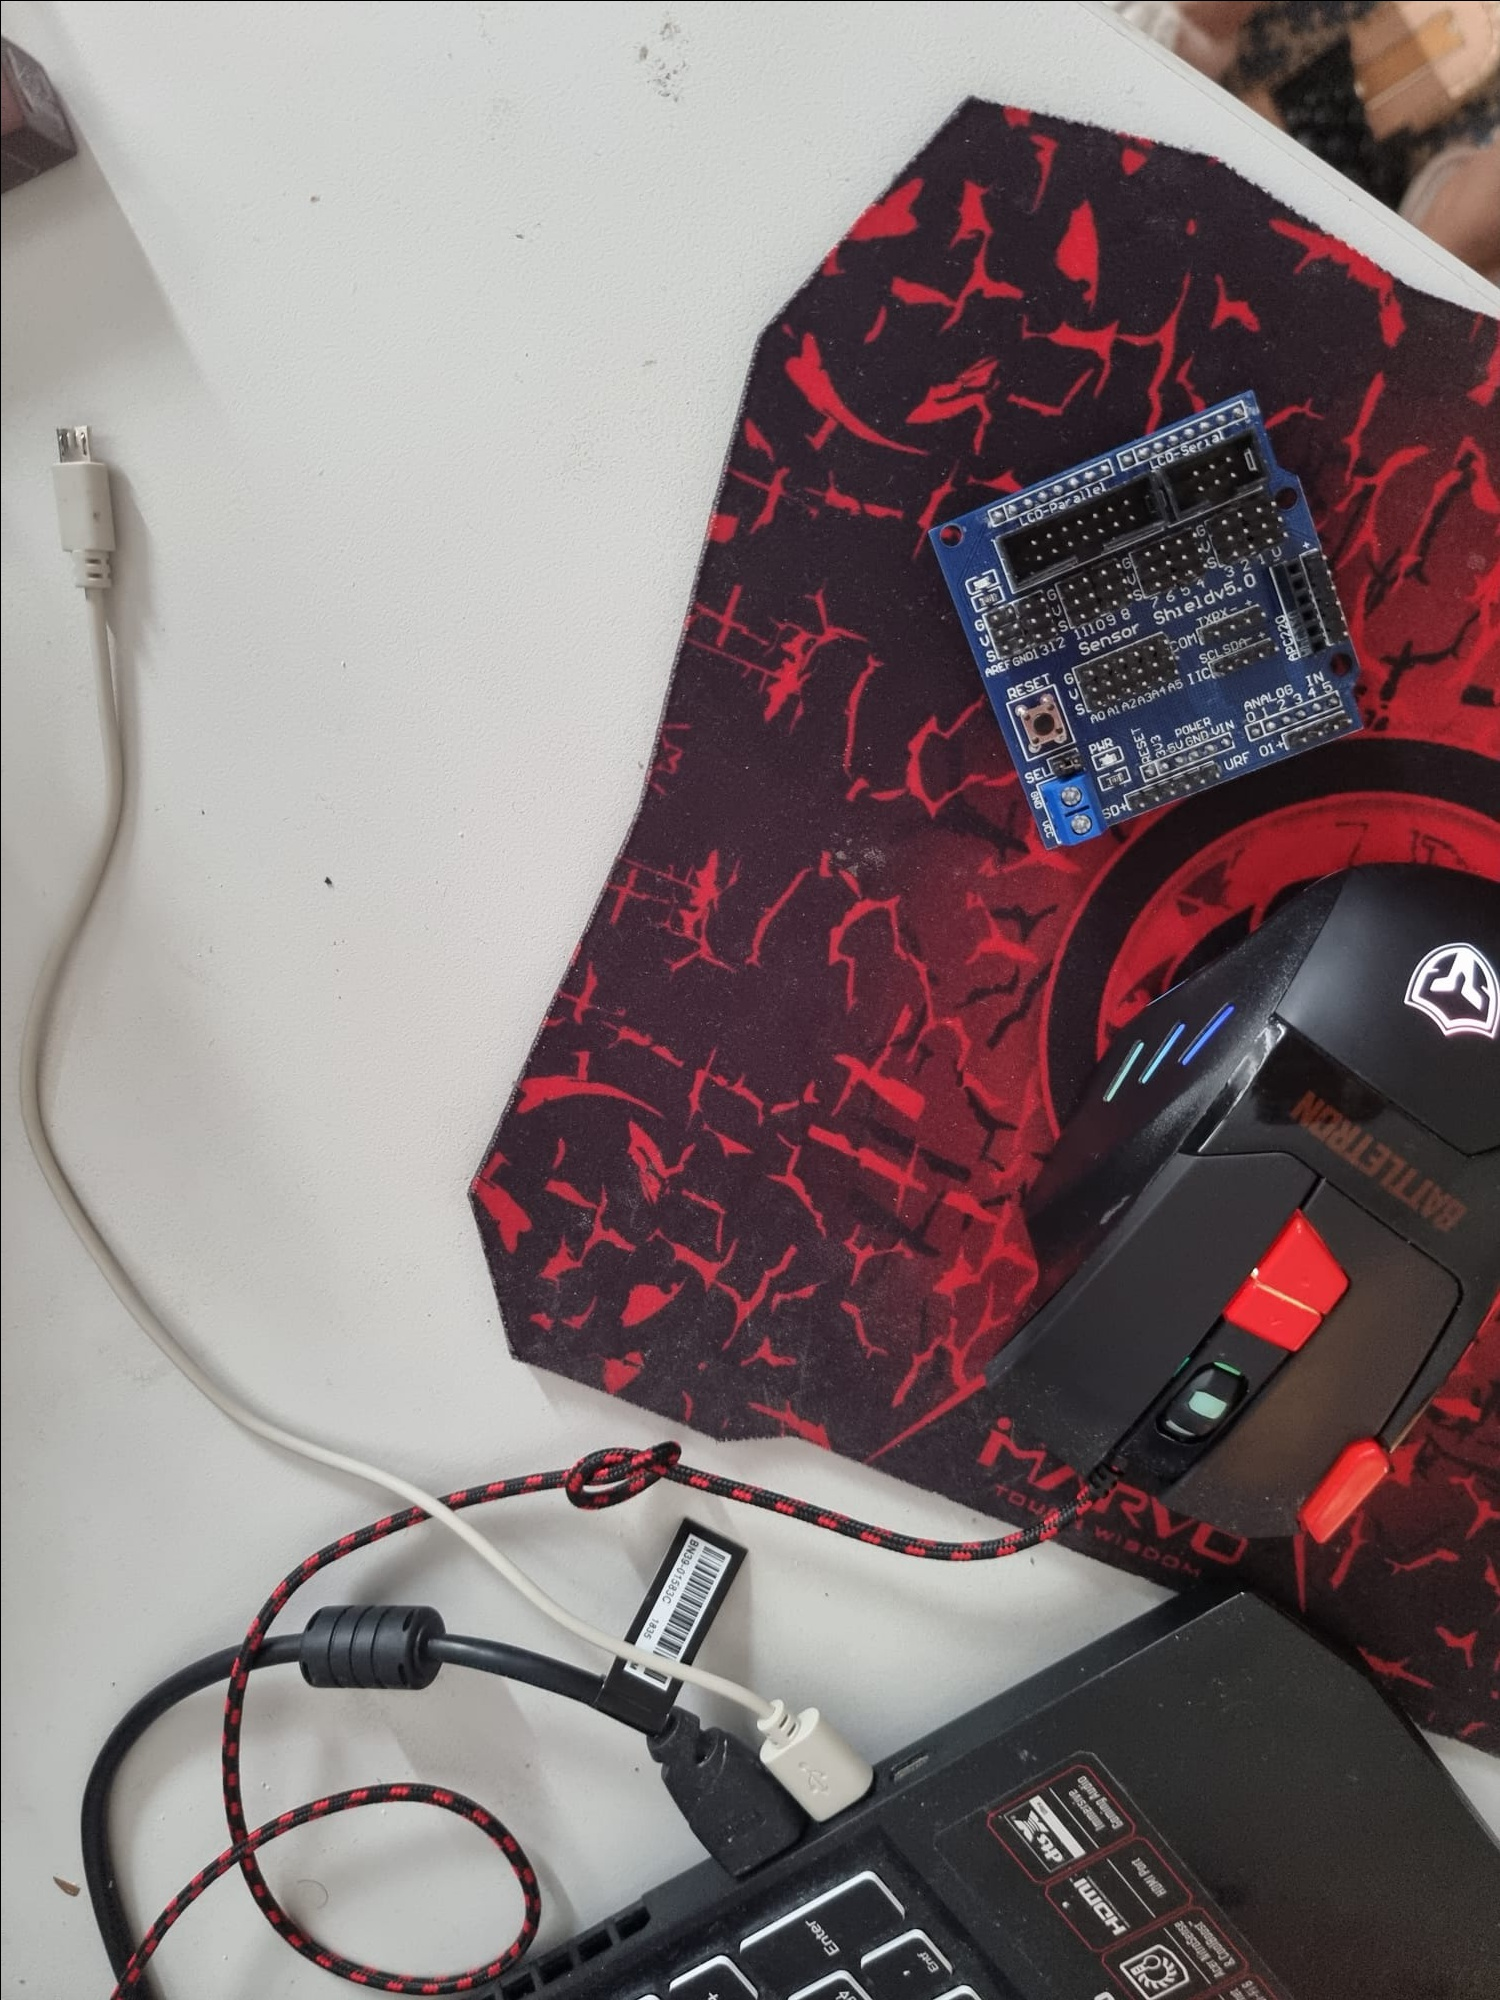5V EXPANSION: (912, 380, 1402, 852)
